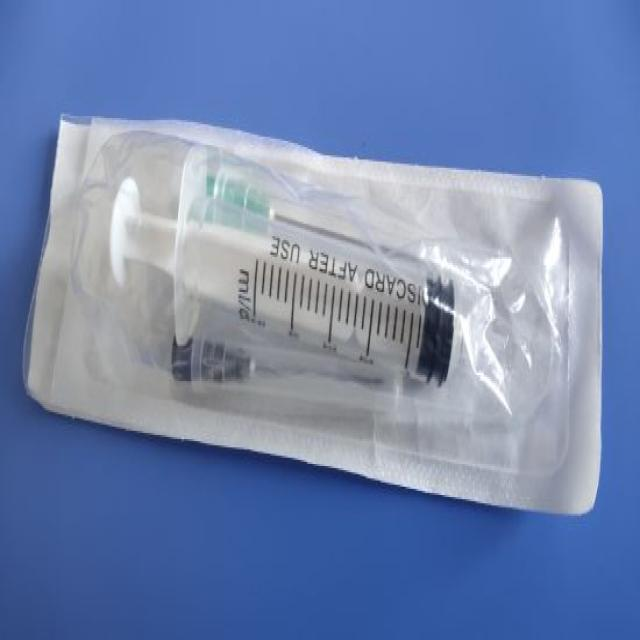B3: (12, 101, 628, 538)
